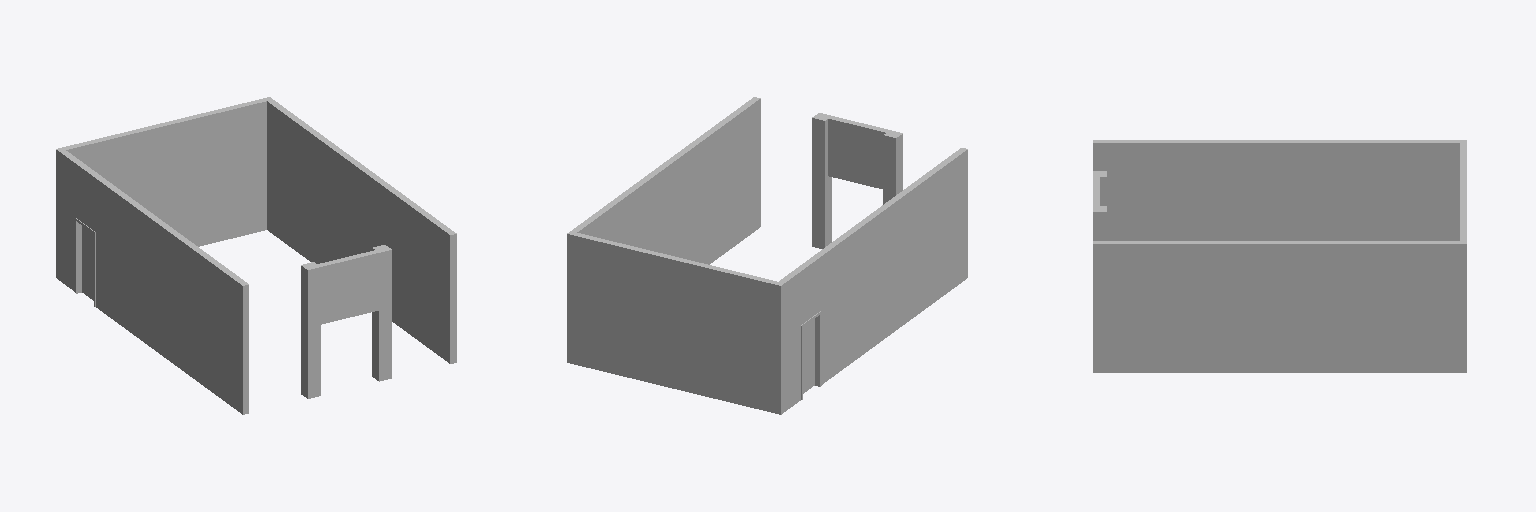
Rendered from shop-walls.obj.
The picture shows the model from 3 angles: view 1: azimuth 30°, elevation 25°; view 2: azimuth 150°, elevation 25°; view 3: azimuth 270°, elevation 25°; orthographic projection.
Visible parts, largest first — view 1: Basic_Wall_Generic___200mm__368621_, Basic_Wall_Generic___200mm__368647_, Basic_Wall_Generic___200mm__322698_, Basic_Wall_Generic___200mm__324268_, Basic_Wall_Generic___375mm__368629_, Basic_Wall_Generic___375mm__368655_, M_Single_Flush_0915_x_2134mm__371596_; view 2: Basic_Wall_Generic___200mm__322698_, Basic_Wall_Generic___200mm__368621_, Basic_Wall_Generic___200mm__368647_, Basic_Wall_Generic___200mm__324268_, Basic_Wall_Generic___375mm__368655_, Basic_Wall_Generic___375mm__368629_, M_Single_Flush_0915_x_2134mm__371596_; view 3: Basic_Wall_Generic___200mm__368647_, Basic_Wall_Generic___200mm__368621_, M_Single_Flush_0915_x_2134mm__371596_, Basic_Wall_Generic___200mm__322698_.
Boxes of the visible parts, x1,y1,x2,y2 form: Basic_Wall_Generic___200mm__368621_: [60, 150, 248, 414]; Basic_Wall_Generic___200mm__368647_: [267, 100, 456, 363]; Basic_Wall_Generic___200mm__322698_: [56, 97, 272, 280]; Basic_Wall_Generic___200mm__324268_: [317, 250, 378, 324]; Basic_Wall_Generic___375mm__368629_: [301, 262, 320, 398]; Basic_Wall_Generic___375mm__368655_: [372, 245, 391, 381]; M_Single_Flush_0915_x_2134mm__371596_: [75, 218, 95, 306]; Basic_Wall_Generic___200mm__322698_: [567, 231, 784, 414]; Basic_Wall_Generic___200mm__368621_: [779, 148, 967, 411]; Basic_Wall_Generic___200mm__368647_: [572, 97, 760, 264]; Basic_Wall_Generic___200mm__324268_: [828, 116, 889, 188]; Basic_Wall_Generic___375mm__368655_: [812, 113, 831, 248]; Basic_Wall_Generic___375mm__368629_: [883, 130, 902, 204]; M_Single_Flush_0915_x_2134mm__371596_: [801, 311, 821, 399]; Basic_Wall_Generic___200mm__368647_: [1093, 241, 1459, 372]; Basic_Wall_Generic___200mm__368621_: [1093, 140, 1459, 240]; M_Single_Flush_0915_x_2134mm__371596_: [1387, 197, 1426, 240]; Basic_Wall_Generic___200mm__322698_: [1460, 140, 1466, 372].
Size of the model in its own units: 6.62 by 3.8 by 10.